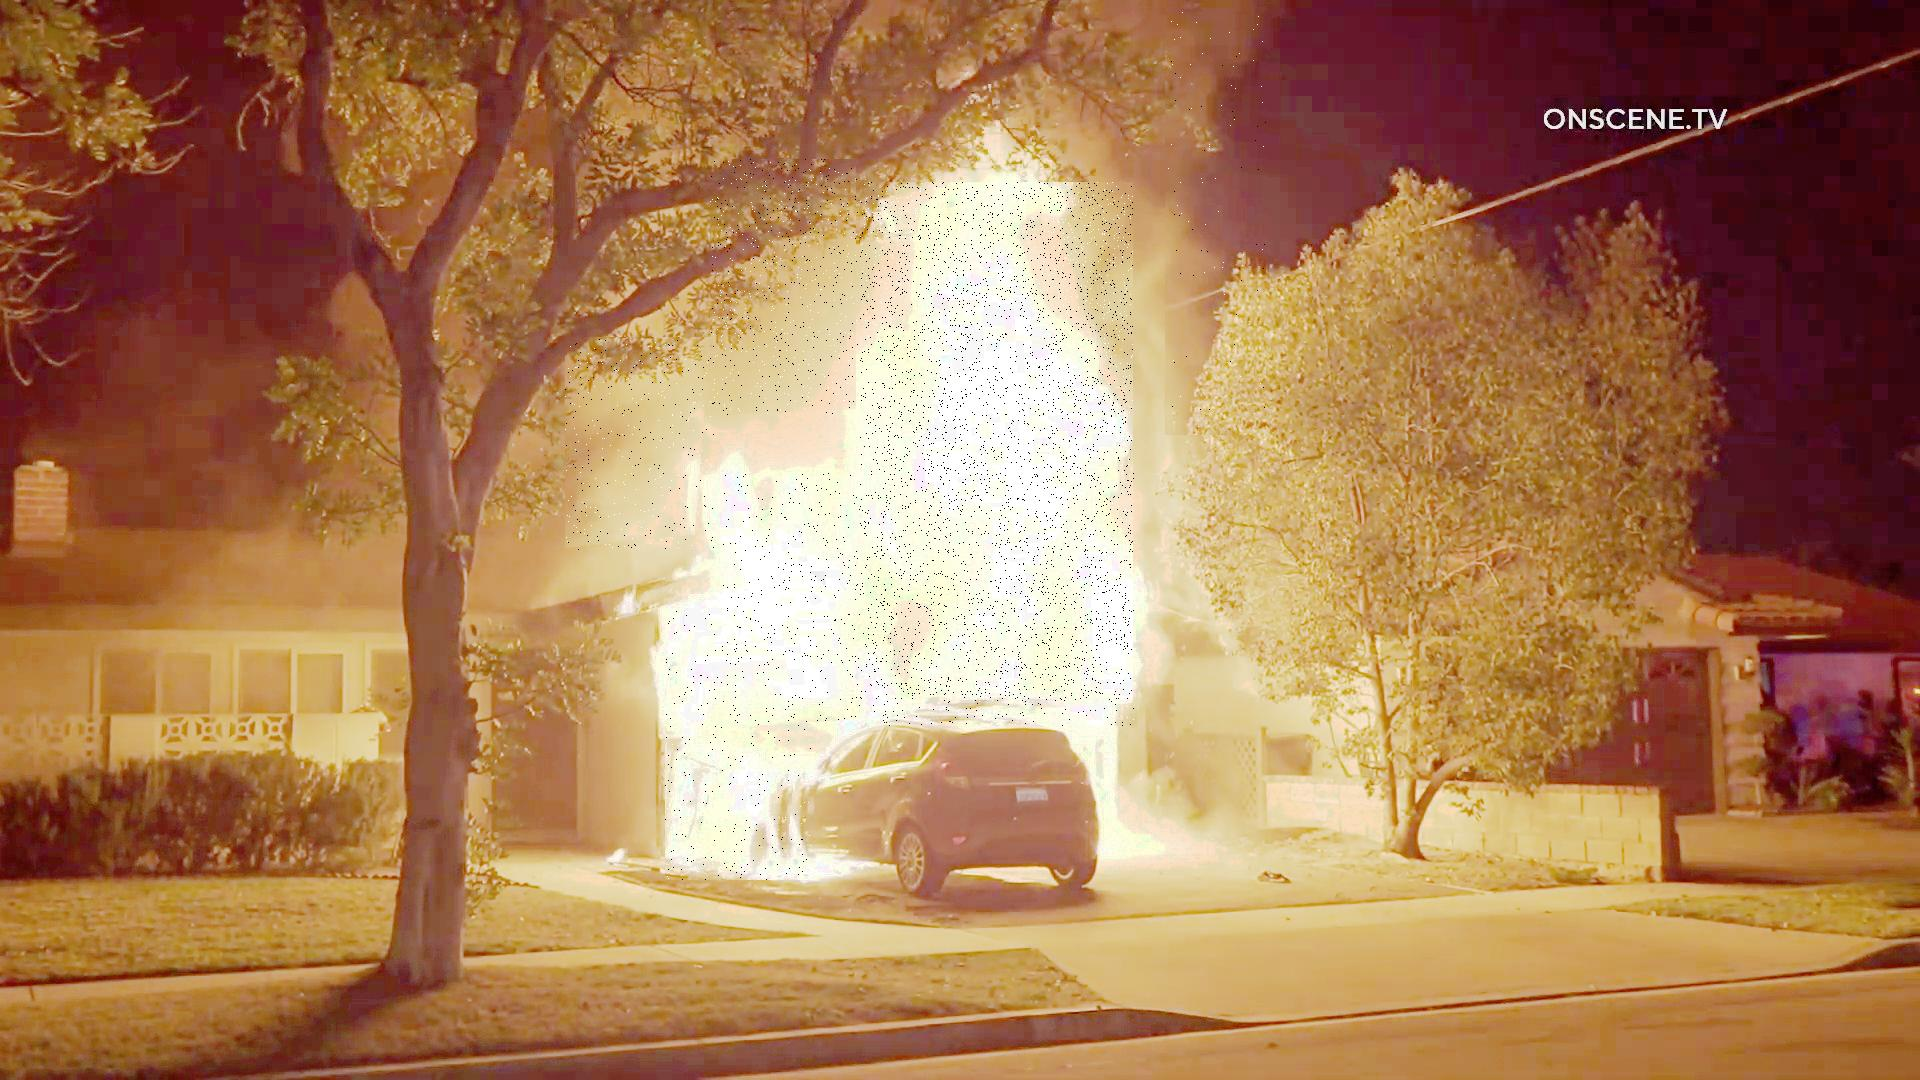fire: (860, 183, 1133, 703), (723, 473, 1135, 727), (666, 611, 812, 881)
smoke: (1166, 13, 1269, 438), (711, 160, 858, 415), (566, 338, 715, 550)
